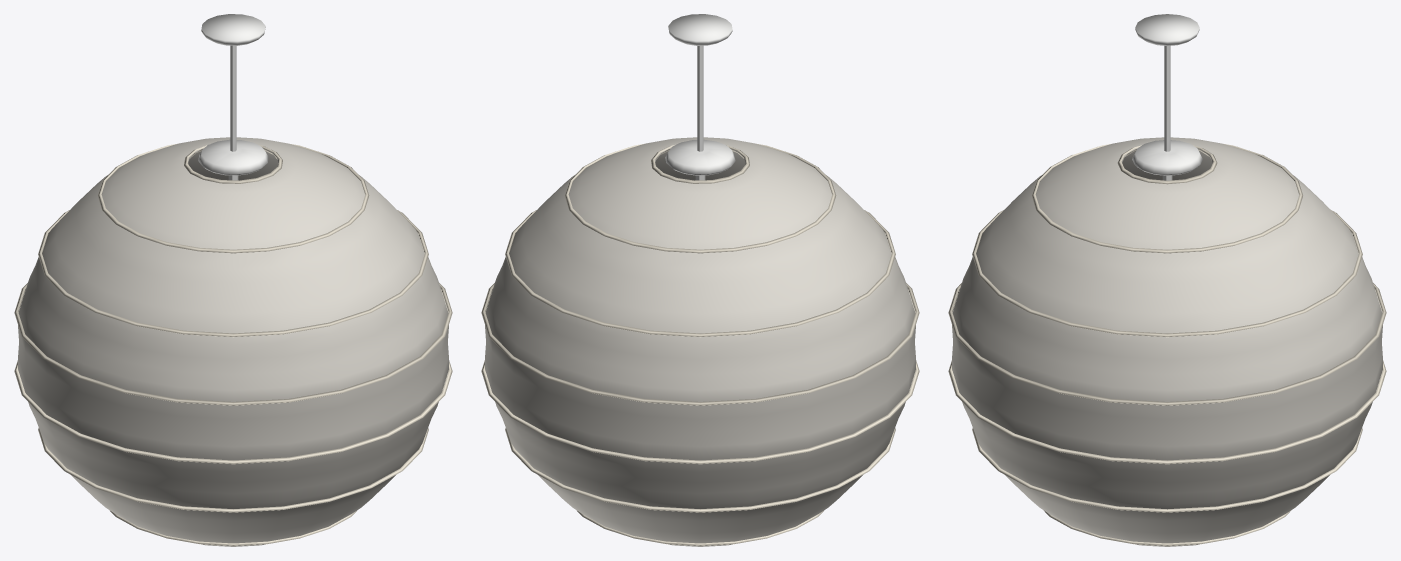
The model's file is paperLantern.glb.
3 views of the same model, side by side, from view 1: azimuth 30°, elevation 25°; view 2: azimuth 150°, elevation 25°; view 3: azimuth 270°, elevation 25° (orthographic).
Visible parts, largest first — view 1: paperLantern; view 2: paperLantern; view 3: paperLantern.
Boxes of the visible parts, x1=… form: paperLantern: x1=14, y1=14, x2=452, y2=546; paperLantern: x1=481, y1=14, x2=919, y2=546; paperLantern: x1=948, y1=14, x2=1386, y2=546.
Bounding box in the file's own units: 0.5431 × 0.6774 × 0.5431.
